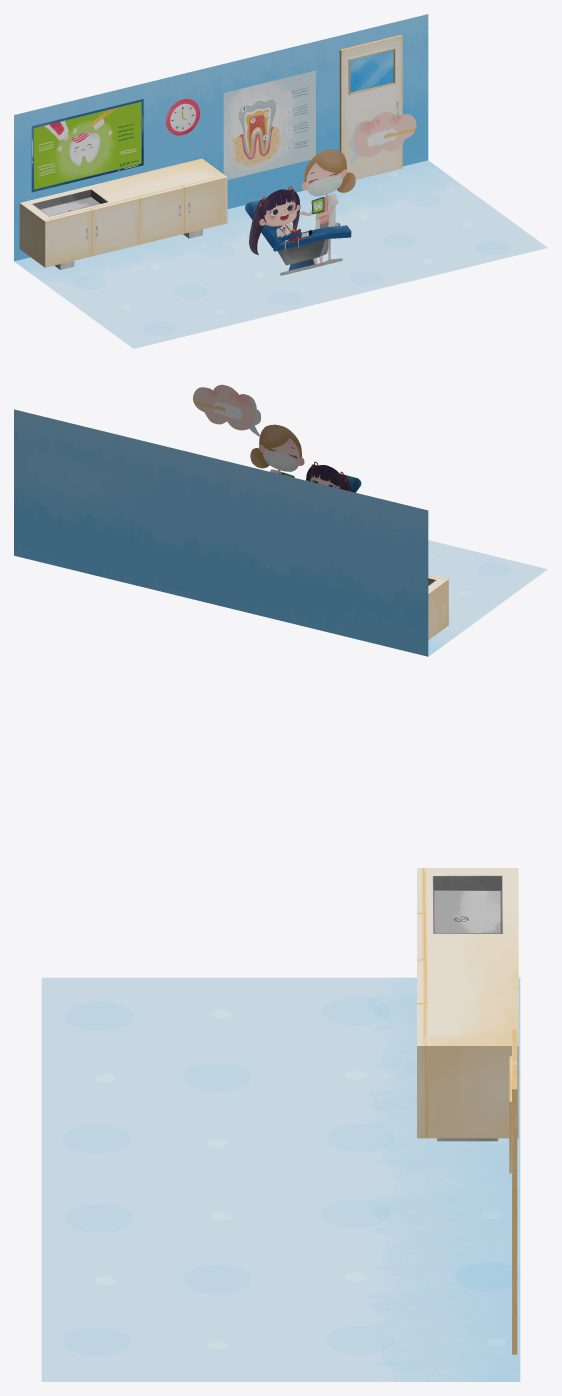
3 renders of one model, top to bottom at view 1: azimuth 30°, elevation 25°; view 2: azimuth 150°, elevation 25°; view 3: azimuth 270°, elevation 25°, orthographic. The views are drawn at different scales.
Parts seen in each view (by area): view 1: decoration_mesh, wallDentistRoom_mesh, wallDentistRoom1_mesh, wallDentistRoom2_mesh, dentist_mesh, bubble_mesh; view 2: wallDentistRoom_mesh, wallDentistRoom1_mesh, dentist_mesh, bubble_mesh, decoration_mesh; view 3: wallDentistRoom2_mesh, wallDentistRoom1_mesh, decoration_mesh.
Boxes of the visible parts, box(x1,y1,x2,y2) form: decoration_mesh: box(19, 35, 402, 269); wallDentistRoom_mesh: box(14, 14, 428, 261); wallDentistRoom1_mesh: box(14, 216, 340, 348); wallDentistRoom2_mesh: box(227, 160, 547, 298); dentist_mesh: box(245, 149, 355, 275); bubble_mesh: box(348, 111, 416, 163); wallDentistRoom_mesh: box(14, 409, 428, 656); wallDentistRoom1_mesh: box(428, 540, 547, 656); dentist_mesh: box(250, 424, 361, 492); bubble_mesh: box(193, 384, 260, 436); decoration_mesh: box(428, 574, 448, 639); wallDentistRoom2_mesh: box(41, 1179, 520, 1381); wallDentistRoom1_mesh: box(41, 977, 520, 1179); decoration_mesh: box(417, 868, 518, 1354).
Size of the model in its own units: 2 by 0.6747 by 1.
